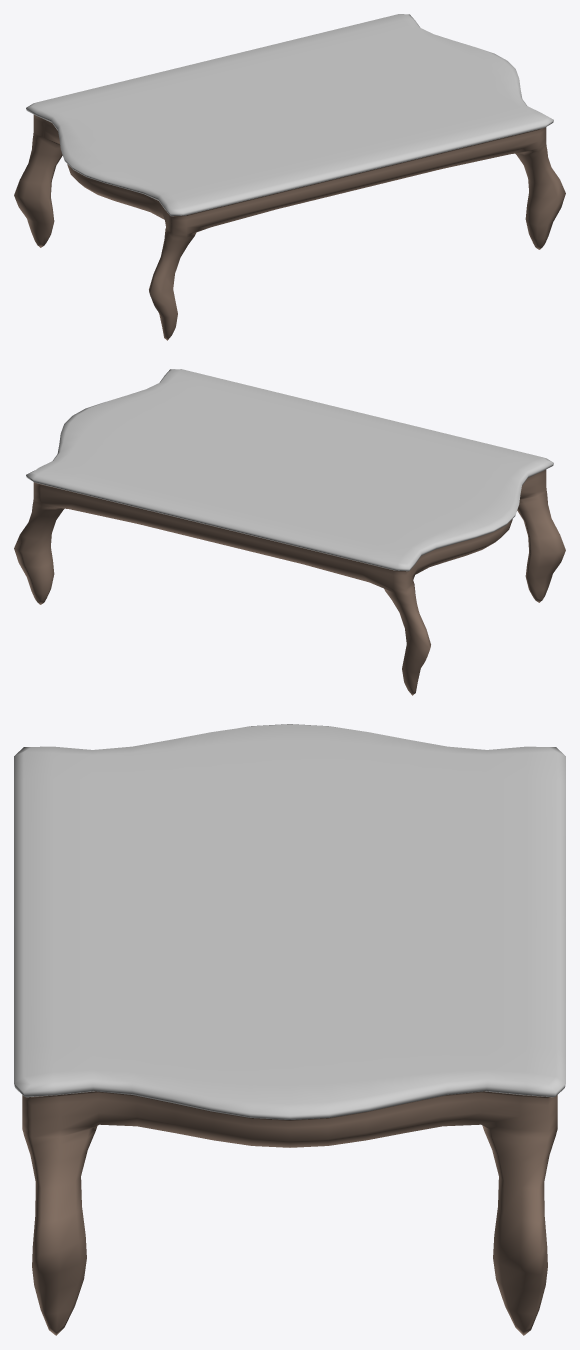
The model's file is Coffee_Table.fbx.
The picture shows the model from 3 angles, top to bottom: view 1: azimuth 30°, elevation 25°; view 2: azimuth 150°, elevation 25°; view 3: azimuth 270°, elevation 25°; orthographic projection. The views are drawn at different scales.
Visible parts, largest first — view 1: Coffee_Table; view 2: Coffee_Table; view 3: Coffee_Table.
Boxes of the visible parts, bbox=[...] form: Coffee_Table: bbox=[14, 14, 565, 340]; Coffee_Table: bbox=[14, 369, 565, 695]; Coffee_Table: bbox=[14, 724, 565, 1335].
Bounding box in the file's own units: 123 × 37.57 × 73.37.
